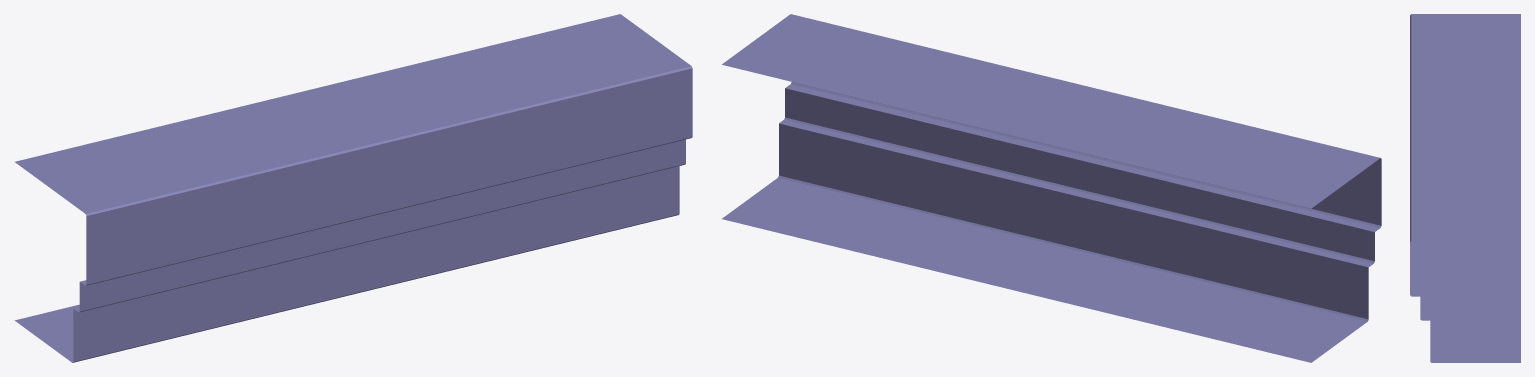
Rendered from M_A_cornice_02.fbx.
3 renders of one model, left to right at view 1: azimuth 30°, elevation 25°; view 2: azimuth 150°, elevation 25°; view 3: azimuth 270°, elevation 25°, orthographic. The views are drawn at different scales.
Parts seen in each view (by area): view 1: M_A_cornice_02; view 2: M_A_cornice_02; view 3: M_A_cornice_02.
Boxes of the visible parts, x1=… form: M_A_cornice_02: x1=14, y1=14, x2=692, y2=362; M_A_cornice_02: x1=722, y1=14, x2=1381, y2=362; M_A_cornice_02: x1=1410, y1=14, x2=1520, y2=362.
Bounding box in the file's own units: 200 × 50 × 41.18.
